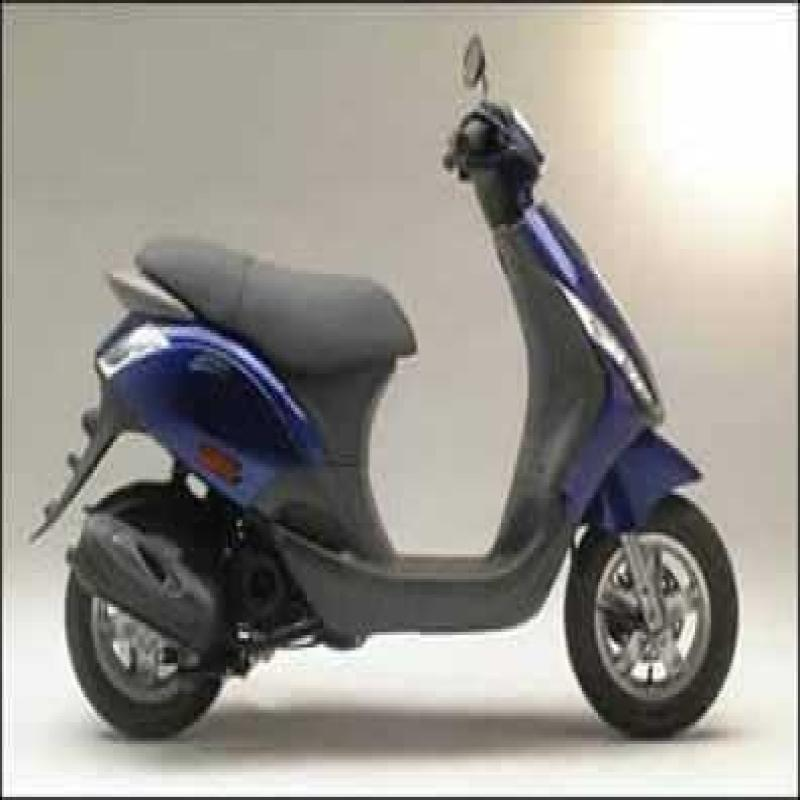bike: (82, 42, 745, 742)
